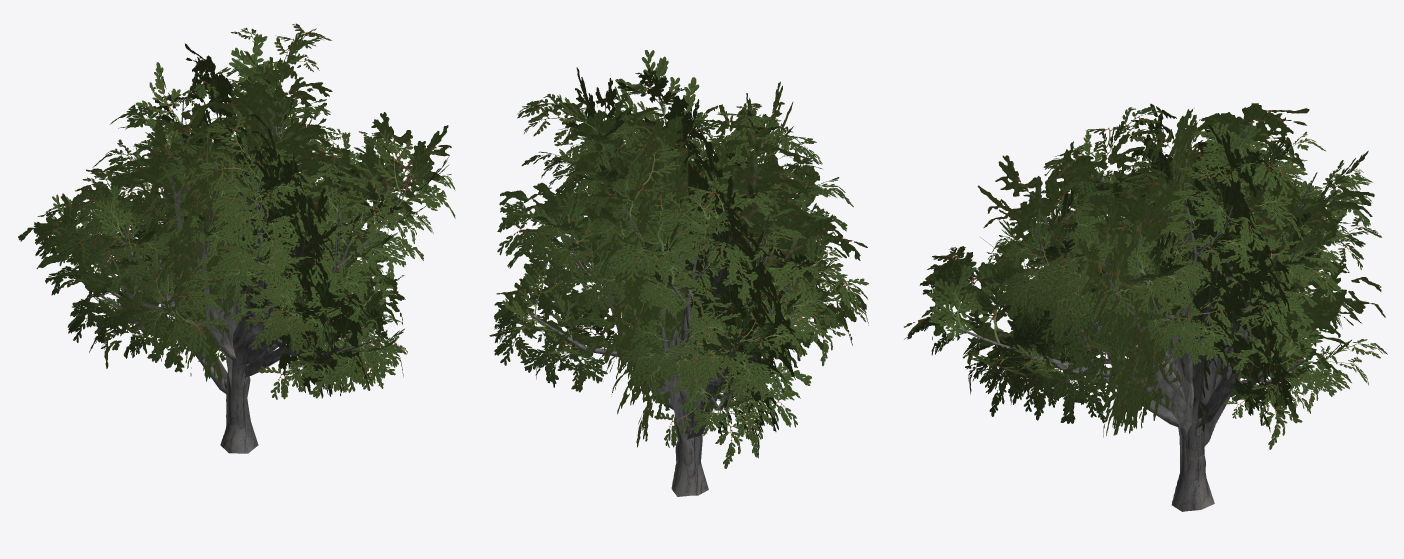
Rendered from mate.glb.
3 renders of one model, left to right at view 1: azimuth 30°, elevation 25°; view 2: azimuth 150°, elevation 25°; view 3: azimuth 270°, elevation 25°, orthographic. The views are drawn at different scales.
Visible parts, largest first — view 1: Mate_B, Mate_B_far, Mate_C, Mate_A, Mate_C_far, Mate_A_far; view 2: Mate_A, Mate_B, Mate_B_far, Mate_A_far, Mate_C, Mate_C_far; view 3: Mate_B, Mate_B_far, Mate_A, Mate_A_far, Mate_C, Mate_C_far.
Boxes of the visible parts, x1,y1,x2,y2 form: Mate_B: (18,23,455,453); Mate_B_far: (18,28,451,450); Mate_C: (92,123,423,446); Mate_A: (55,91,373,397); Mate_C_far: (95,127,421,423); Mate_A_far: (57,102,373,421); Mate_A: (489,136,868,470); Mate_B: (517,50,835,495); Mate_B_far: (517,67,838,490); Mate_A_far: (494,143,867,463); Mate_C: (622,117,868,496); Mate_C_far: (602,133,866,483); Mate_B: (904,106,1381,511); Mate_B_far: (904,103,1381,502); Mate_A: (1014,144,1387,480); Mate_A_far: (1031,147,1385,458); Mate_C: (972,150,1353,511); Mate_C_far: (975,149,1353,505).
Bounding box in the file's own units: 5.01 × 5.36 × 5.85.
5 materials, 5 textured.
